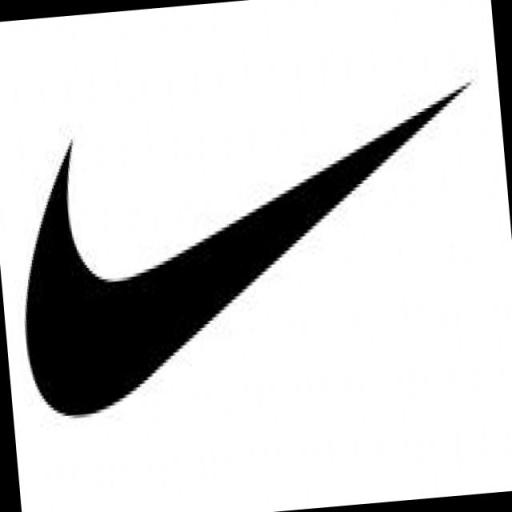Nike: (1, 72, 510, 434)
